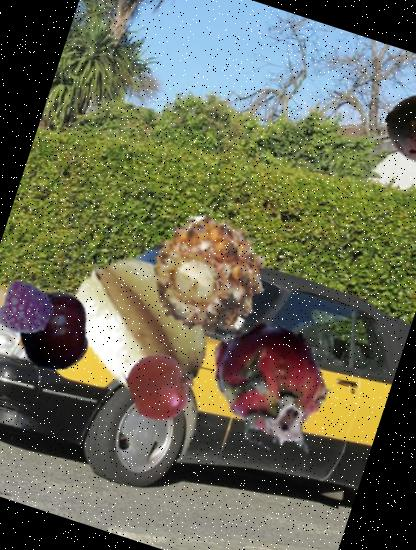Carambula: (45, 229, 234, 418)
Pineapple: (135, 198, 287, 350)
Pitahaya: (182, 293, 368, 479)
Plum: (4, 280, 105, 380), (373, 79, 416, 179)
Raspberry: (0, 276, 59, 343)
Redcurrant: (120, 344, 203, 428)
